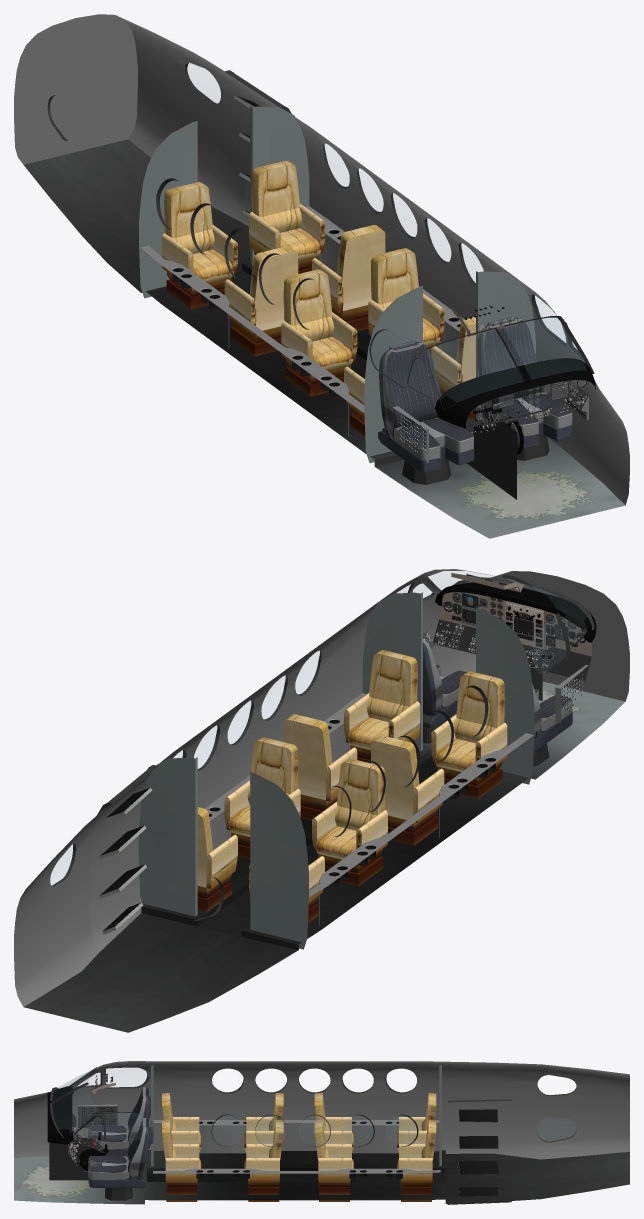
Rendered from interior.gltf.
3 views of the same model, one above another, from view 1: azimuth 30°, elevation 25°; view 2: azimuth 150°, elevation 25°; view 3: azimuth 270°, elevation 25° (orthographic). The views are drawn at different scales.
Visible parts, largest first — view 1: Interior; view 2: Interior; view 3: Interior.
Part boxes in pixels (bbox=[...]): Interior: bbox=[14, 14, 629, 538]; Interior: bbox=[14, 569, 629, 1032]; Interior: bbox=[14, 1061, 629, 1204].
Size of the model in its own units: 1.56 by 1.47 by 7.46.
53 materials, 49 textured.
